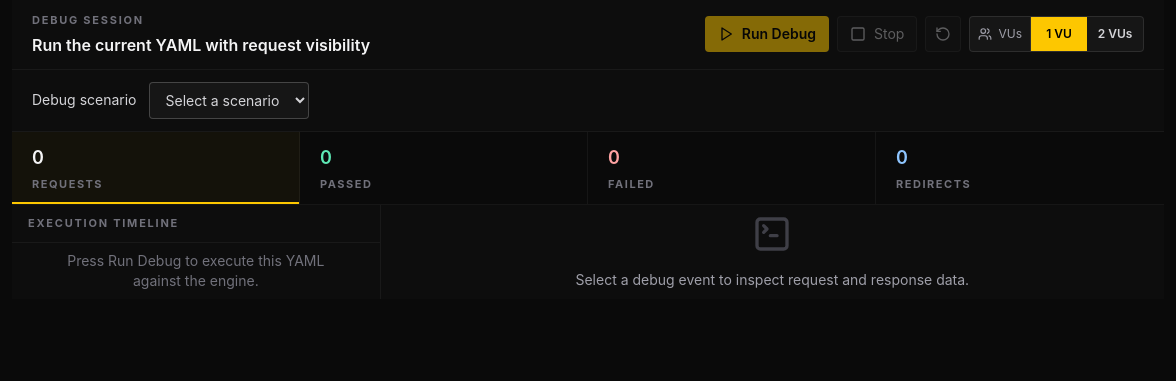
Test case: selected scenario Debug › rejects a selection removed by flushed edits before posting
Select "second" in the dropdown labelled "Debug scenario". click: coordinates (228, 100)
box: [148,82,308,118]
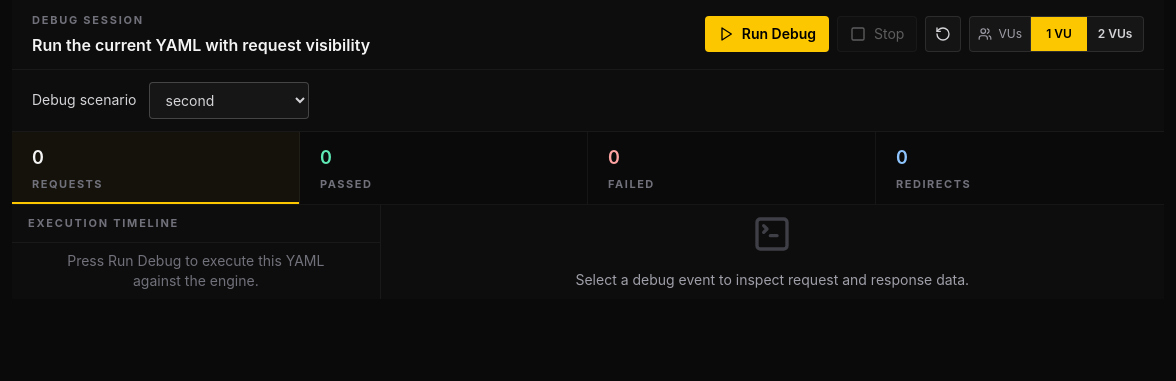
Click the button "Run Debug". click: coordinates (767, 34)
box: [705,16,829,52]
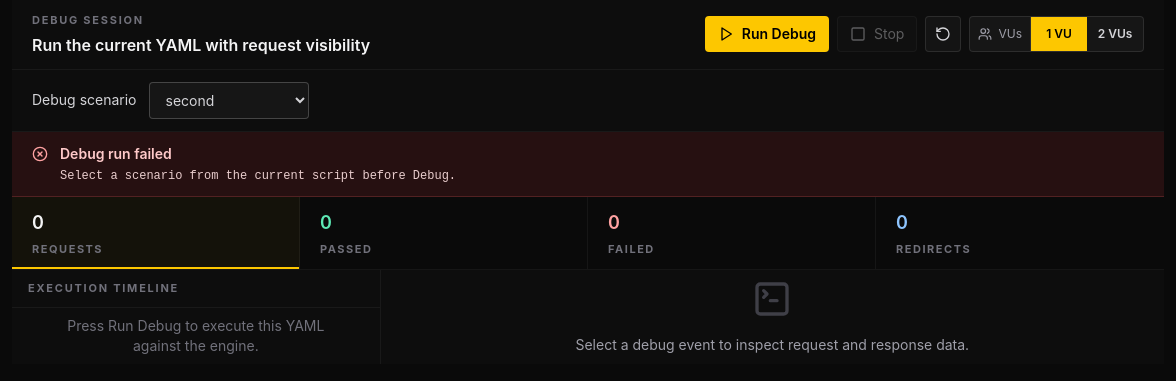
Now the text "Select a scenario from the current script before Debug." is shown, box [60,168,456,184]
